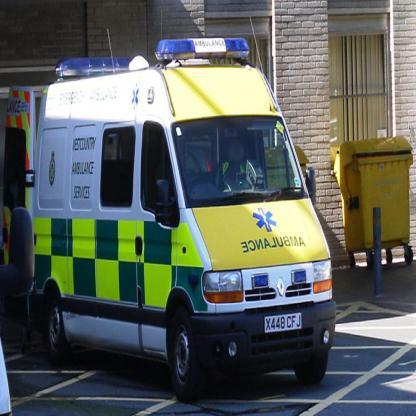Ambulance - v1 Ambulance last generate: (1, 12, 336, 386)
